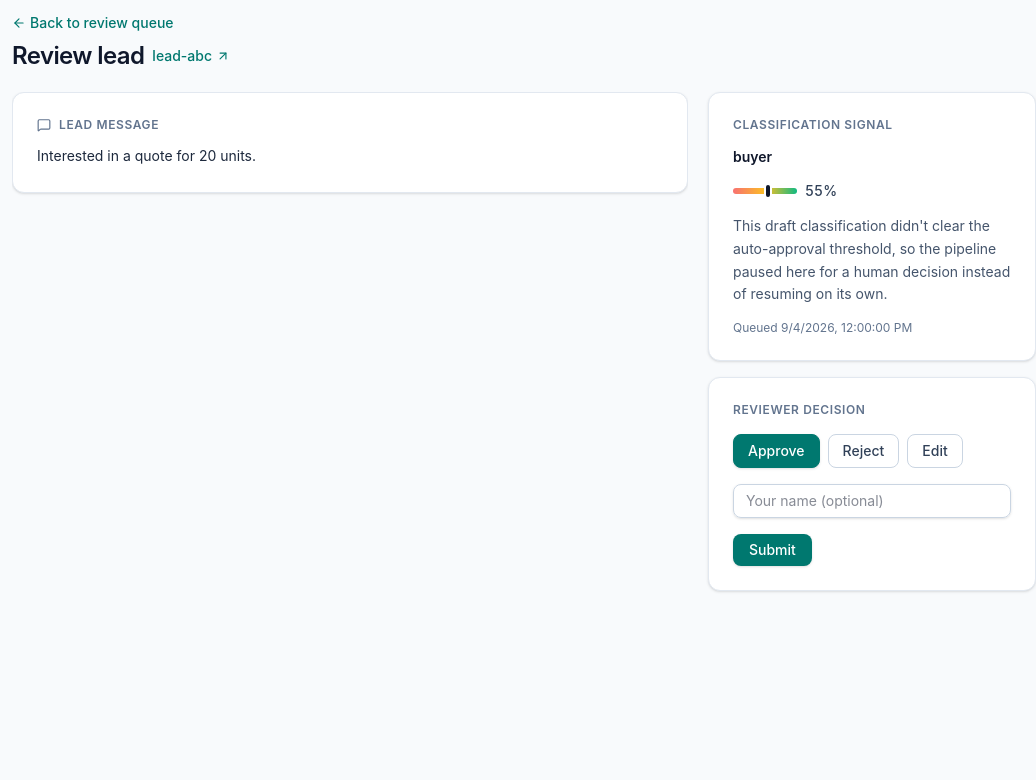
ReviewDetailPage › submits the optional reviewer name when supplied
expect the text "buyer" is shown: met, box [733,147,772,167]
Type "Jordan" into the field with placeholder "Your name (optional)" at (872, 501), box [733,484,1011,518]
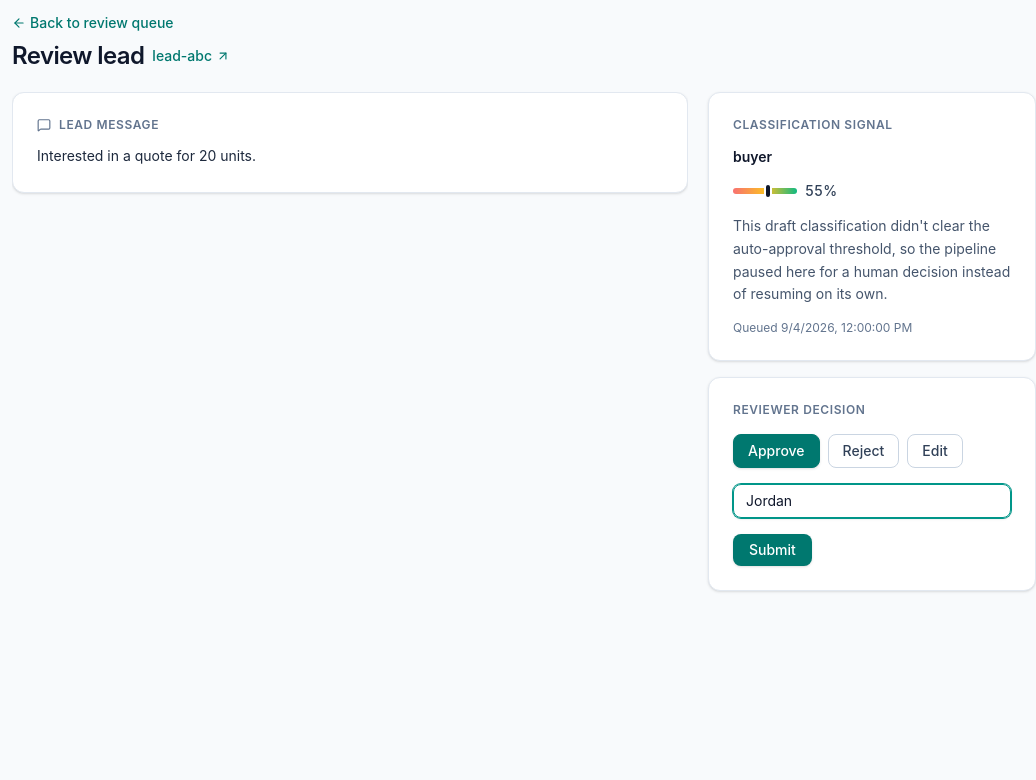
Click the button "Submit" at (772, 550), box [733,534,812,566]
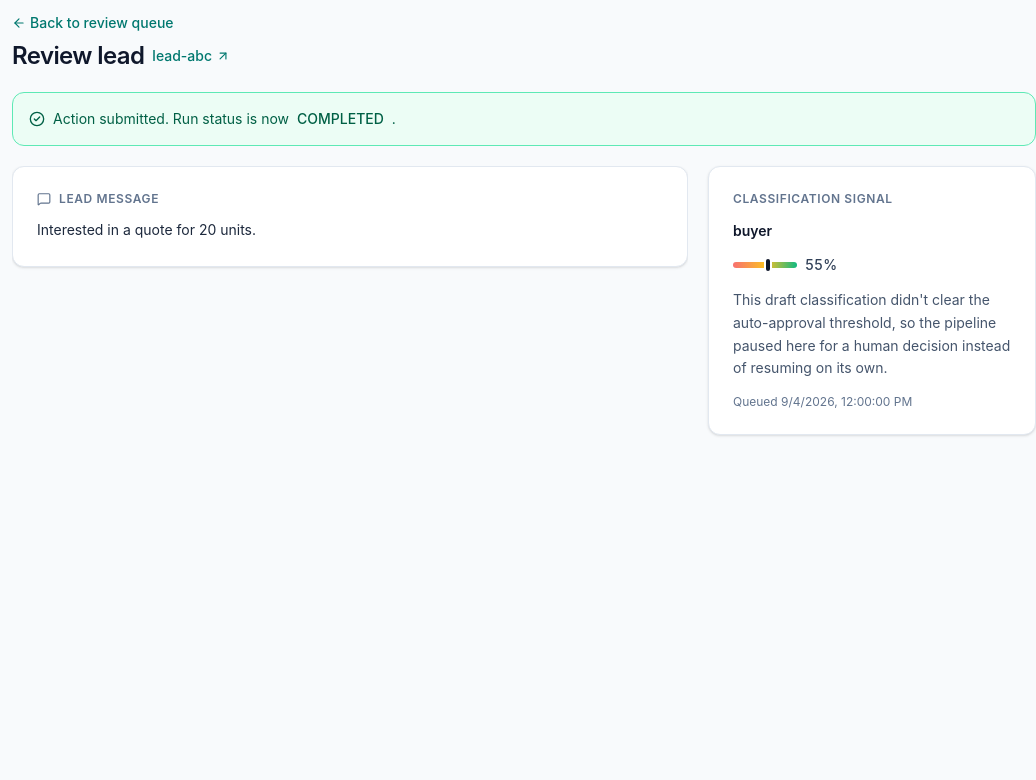
expect the text "Action submitted. Run status is now COMPLETED ." is shown: met, box [12,92,1035,146]
